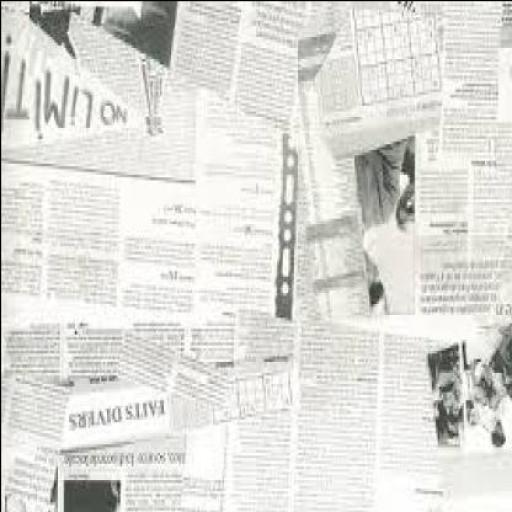paper: (1, 3, 293, 319), (300, 2, 511, 320), (232, 319, 510, 511), (2, 300, 232, 511), (2, 2, 143, 149), (439, 3, 510, 171)
